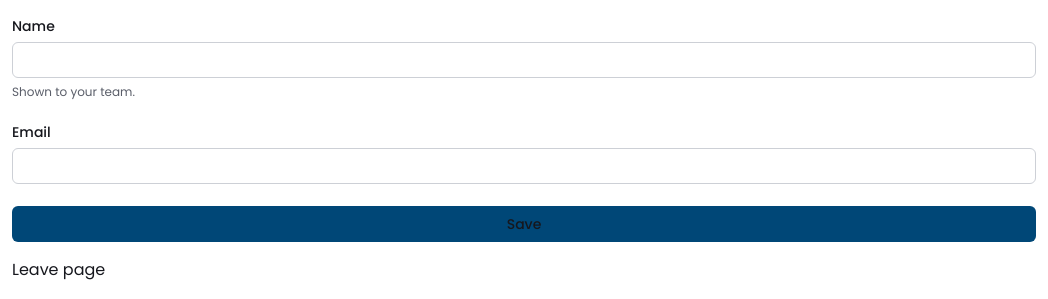
it: useZodForm + Form › submits parsed values once valid and disables the button while pending
Expected: the button "Save" is enabled, top-left (12, 206), bottom-right (1036, 242)
Type "Alice" into the field labelled "Name" at x=524, y=60, box top-left (12, 42), bottom-right (1036, 78)
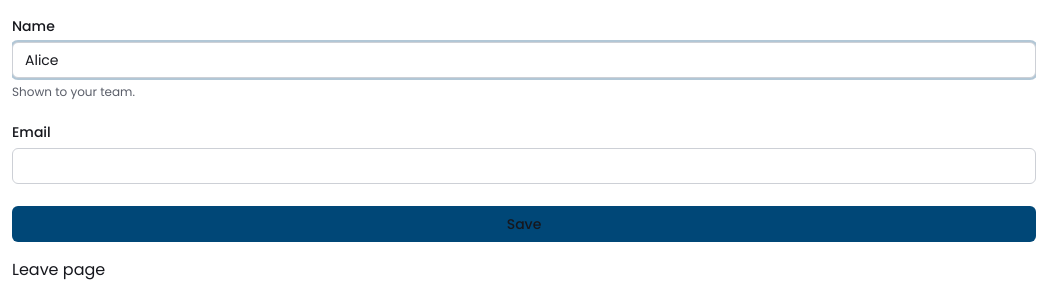
Type "a@example.com" into the field labelled "Email" at x=524, y=166, box top-left (12, 148), bottom-right (1036, 184)
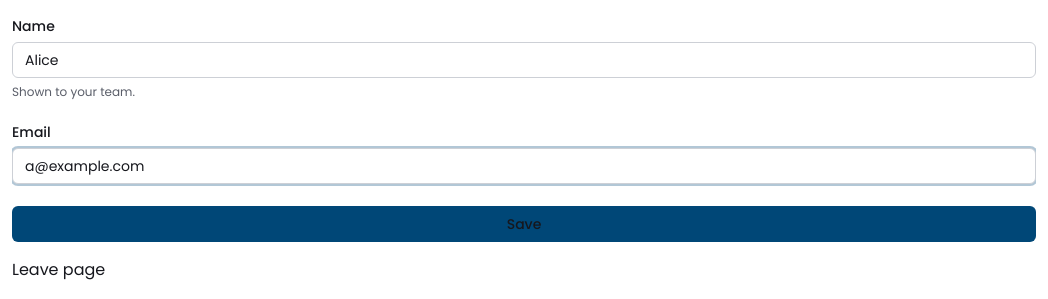
Click the button "Save" at x=524, y=224, box top-left (12, 206), bottom-right (1036, 242)
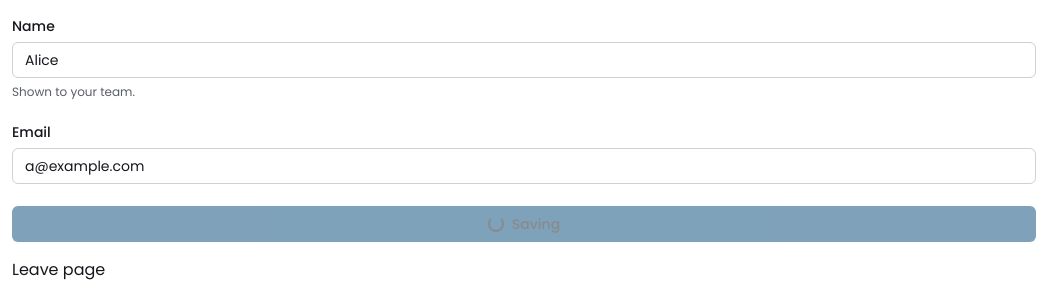
Expected: the button "Saving" is disabled, top-left (12, 206), bottom-right (1036, 242)
Submit the form
Submit the form
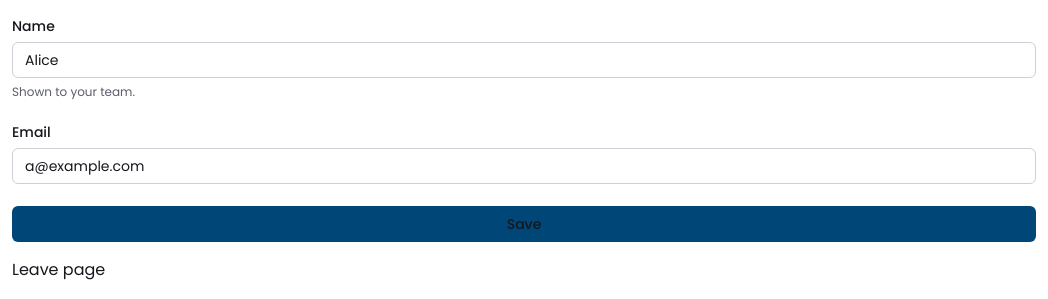
Expected: the button "Save" is enabled, top-left (12, 206), bottom-right (1036, 242)
